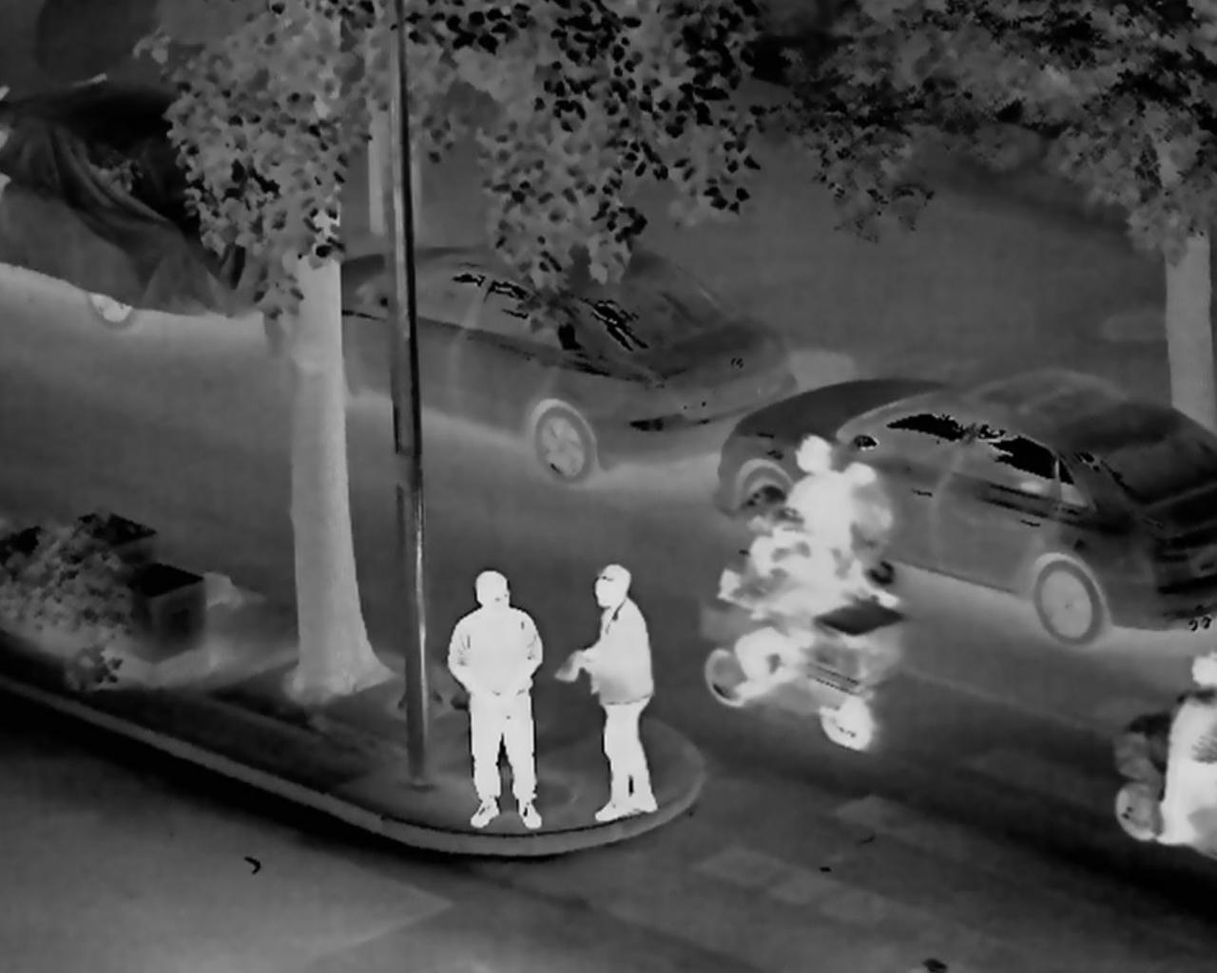person: (558, 556, 673, 816), (447, 565, 554, 829), (725, 499, 832, 734), (1143, 645, 1217, 892), (782, 422, 874, 618)
